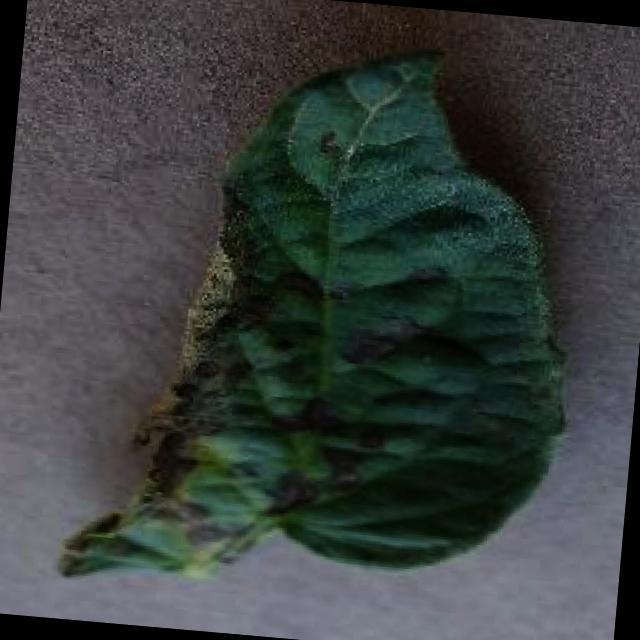Tomato Early blight leaf: (58, 20, 596, 618)
